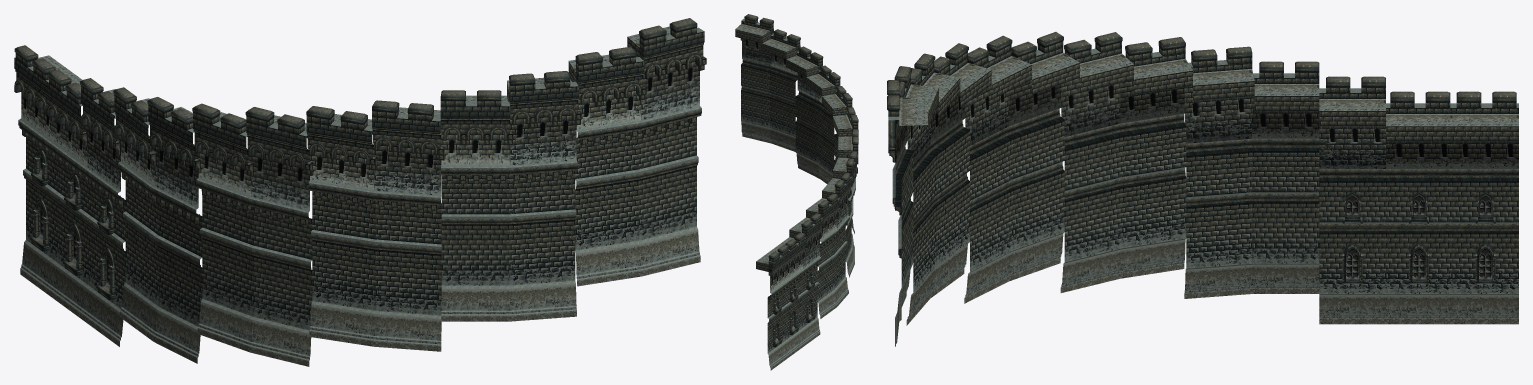
File: EnvBdgMD_Castle_Raimei_A_SyokeiTower_A.FBX
3 renders of one model, left to right at view 1: azimuth 30°, elevation 25°; view 2: azimuth 150°, elevation 25°; view 3: azimuth 270°, elevation 25°, orthographic. The views are drawn at different scales.
Visible parts, largest first — view 1: EnvBdgMD_Castle_Raimei_A_SyokeiTower_A; view 2: EnvBdgMD_Castle_Raimei_A_SyokeiTower_A; view 3: EnvBdgMD_Castle_Raimei_A_SyokeiTower_A.
Part boxes in pixels (box(x1,y1,x2,y2)): EnvBdgMD_Castle_Raimei_A_SyokeiTower_A: box(14, 18, 706, 366); EnvBdgMD_Castle_Raimei_A_SyokeiTower_A: box(735, 14, 858, 370); EnvBdgMD_Castle_Raimei_A_SyokeiTower_A: box(887, 32, 1518, 346).
Size of the model in its own units: 1970 by 1970 by 2850.
